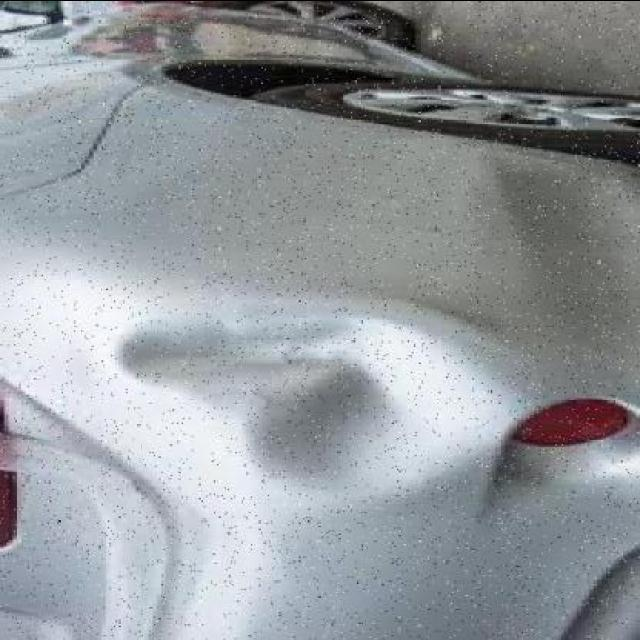rear-bumper-dent: (102, 129, 636, 640)
